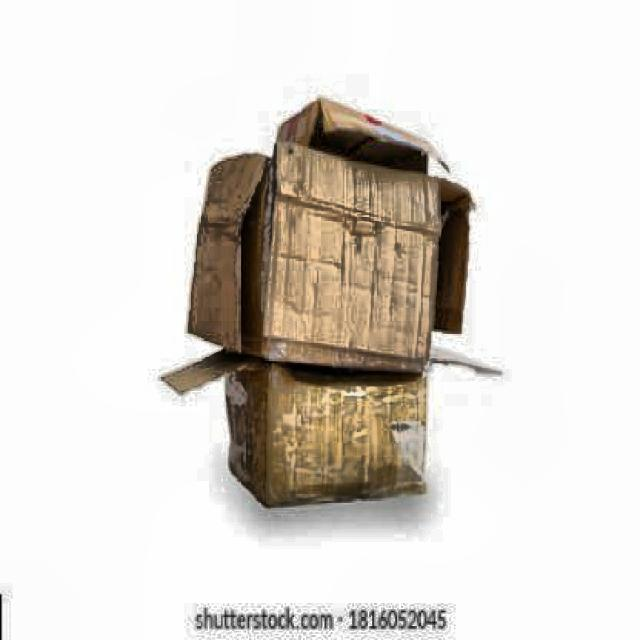Cardbox: (186, 99, 474, 391), (144, 323, 497, 506)
